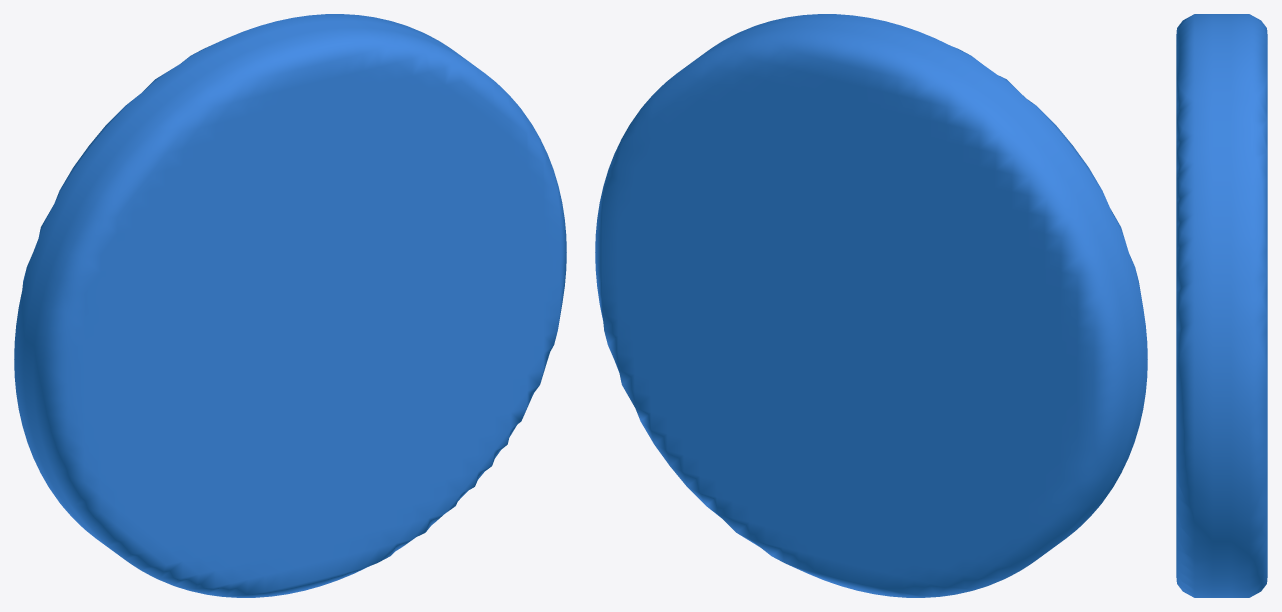
File: 017_rgb_main_camera_lens_element.glb
3 renders of one model, left to right at view 1: azimuth 30°, elevation 25°; view 2: azimuth 150°, elevation 25°; view 3: azimuth 270°, elevation 25°, orthographic. The views are drawn at different scales.
Parts seen in each view (by area): view 1: 017 | RGB Main Camera Lens Element; view 2: 017 | RGB Main Camera Lens Element; view 3: 017 | RGB Main Camera Lens Element.
Boxes of the visible parts, bbox=[...] form: 017 | RGB Main Camera Lens Element: bbox=[14, 14, 566, 597]; 017 | RGB Main Camera Lens Element: bbox=[595, 14, 1147, 597]; 017 | RGB Main Camera Lens Element: bbox=[1176, 14, 1267, 597].
Bounding box in the file's own units: 0.0032 × 0.0032 × 0.0005.
